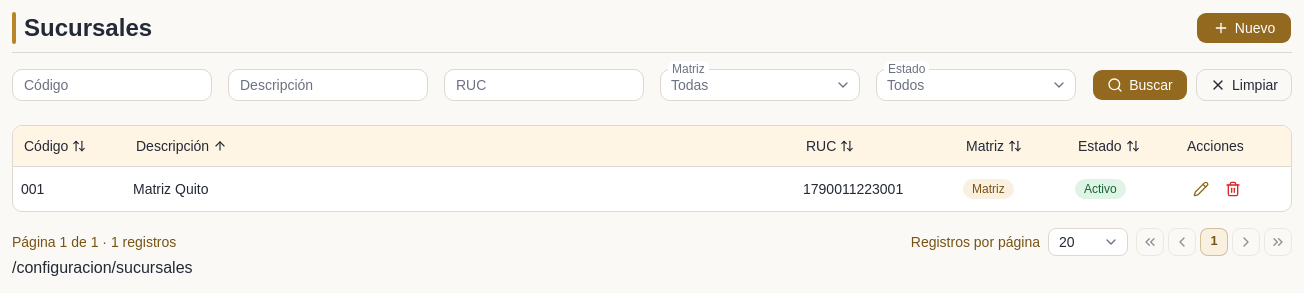
Test: PaginaSucursales › permite ordenar por Matriz y Estado
Step 1. Click the button "Estado" → (1109, 146), box [1067, 132, 1151, 160]
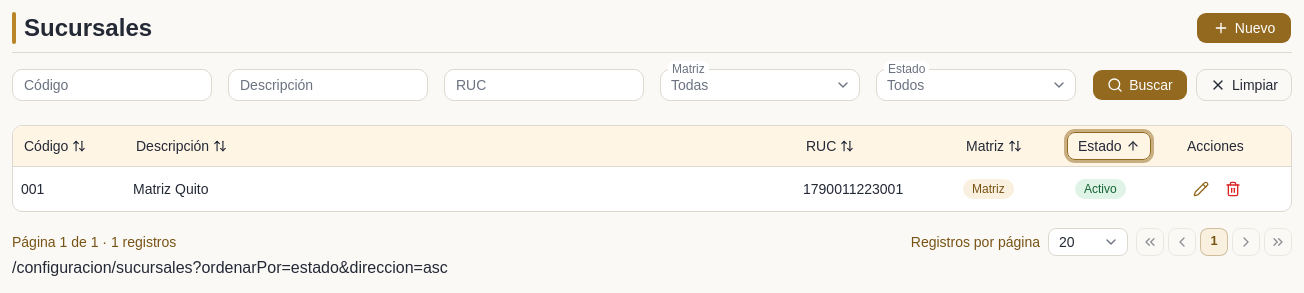
Expected: the button "Matriz" is shown, [955, 132, 1033, 160]
Now the text named "Ubicación" reads "/configuracion/sucursales?ordenarPor=estado&direccion=asc", box [12, 258, 448, 276]
